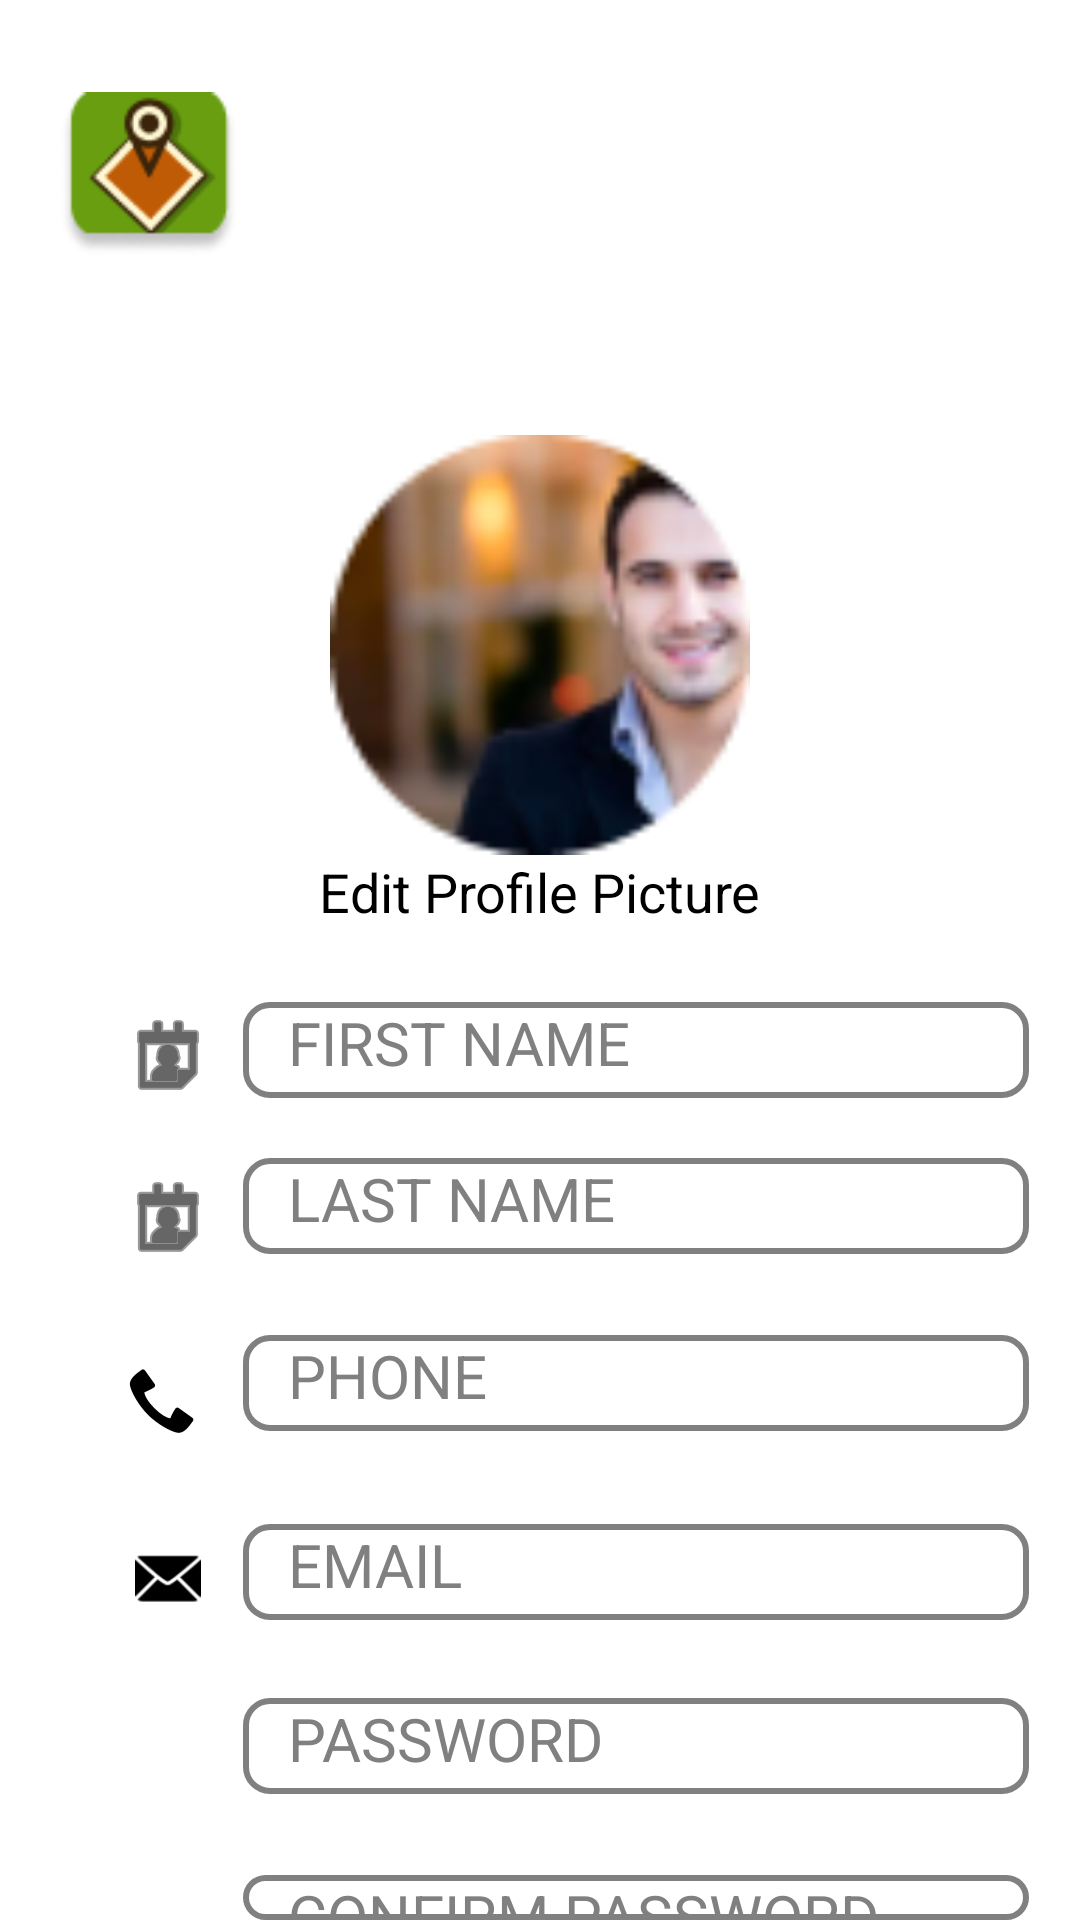

Where to tap for icons on this 1080w x 1920h app screen, as (x=x, y=y):
calendar: (x=168, y=1055), (x=168, y=1217)
